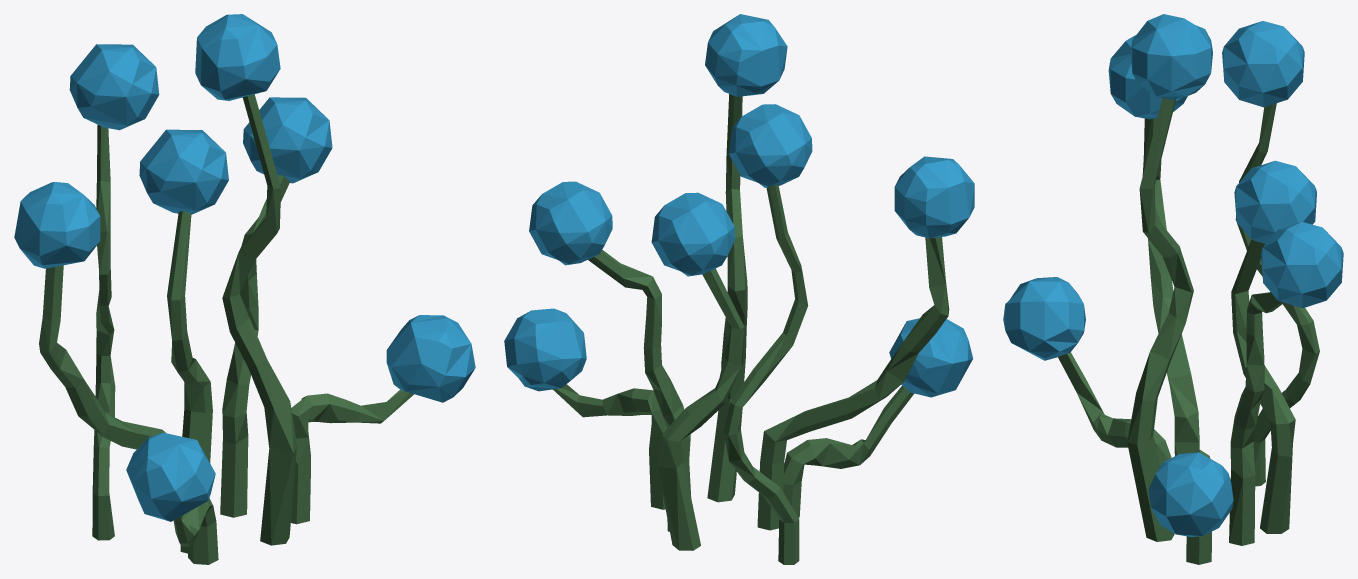
File: _flower_6.glb
3 renders of one model, left to right at view 1: azimuth 30°, elevation 25°; view 2: azimuth 150°, elevation 25°; view 3: azimuth 270°, elevation 25°, orthographic. The views are drawn at different scales.
Visible parts, largest first — view 1: flower_6; view 2: flower_6; view 3: flower_6.
Part boxes in pixels (bbox=[...]): flower_6: bbox=[14, 14, 475, 564]; flower_6: bbox=[504, 14, 974, 564]; flower_6: bbox=[1003, 14, 1343, 564].
Bounding box in the file's own units: 0.9388 × 1 × 0.6121.
1 material, 1 textured.
